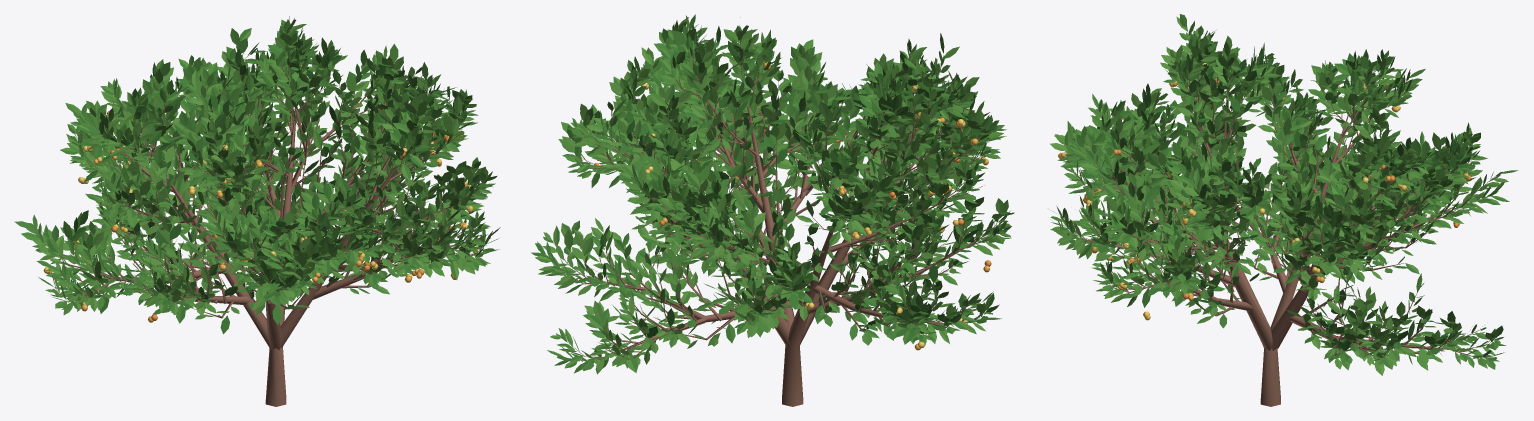
Rendered from cerisier_jaune_ete.glb.
3 renders of one model, left to right at view 1: azimuth 30°, elevation 25°; view 2: azimuth 150°, elevation 25°; view 3: azimuth 270°, elevation 25°, orthographic. The views are drawn at different scales.
Parts seen in each view (by area): view 1: Cerisier_Feuillage, Cerisier_Tronc, Cerisier_Cerises; view 2: Cerisier_Feuillage, Cerisier_Tronc, Cerisier_Cerises; view 3: Cerisier_Feuillage, Cerisier_Tronc, Cerisier_Cerises.
Boxes of the visible parts, box(x1,y1,x2,y2) form: Cerisier_Feuillage: box(14, 16, 500, 334); Cerisier_Tronc: box(37, 27, 483, 406); Cerisier_Cerises: box(43, 65, 477, 322); Cerisier_Feuillage: box(531, 14, 1014, 374); Cerisier_Tronc: box(547, 40, 1001, 406); Cerisier_Cerises: box(593, 61, 991, 350); Cerisier_Feuillage: box(1050, 14, 1518, 375); Cerisier_Tronc: box(1059, 28, 1499, 406); Cerisier_Cerises: box(1058, 63, 1471, 320).
Bounding box in the file's own units: 5.92 × 4.87 × 6.14.
